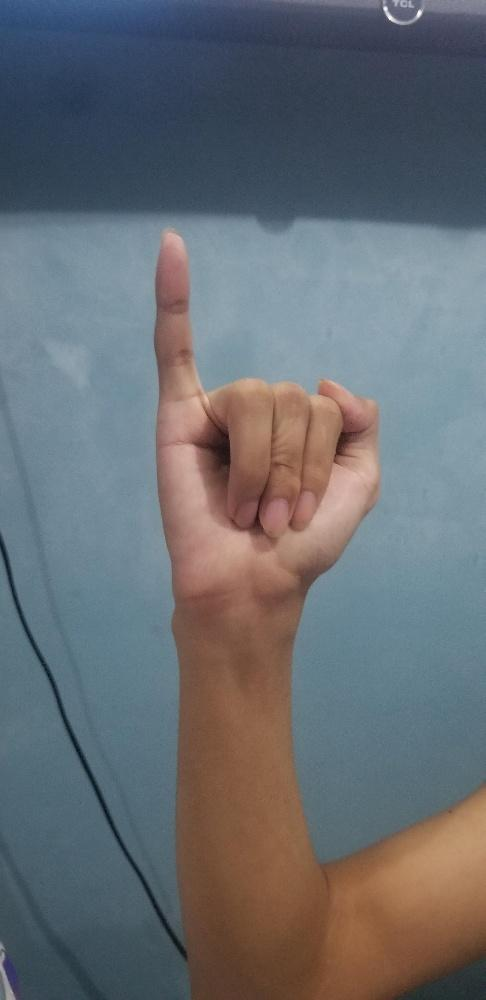i: (148, 224, 387, 593)
